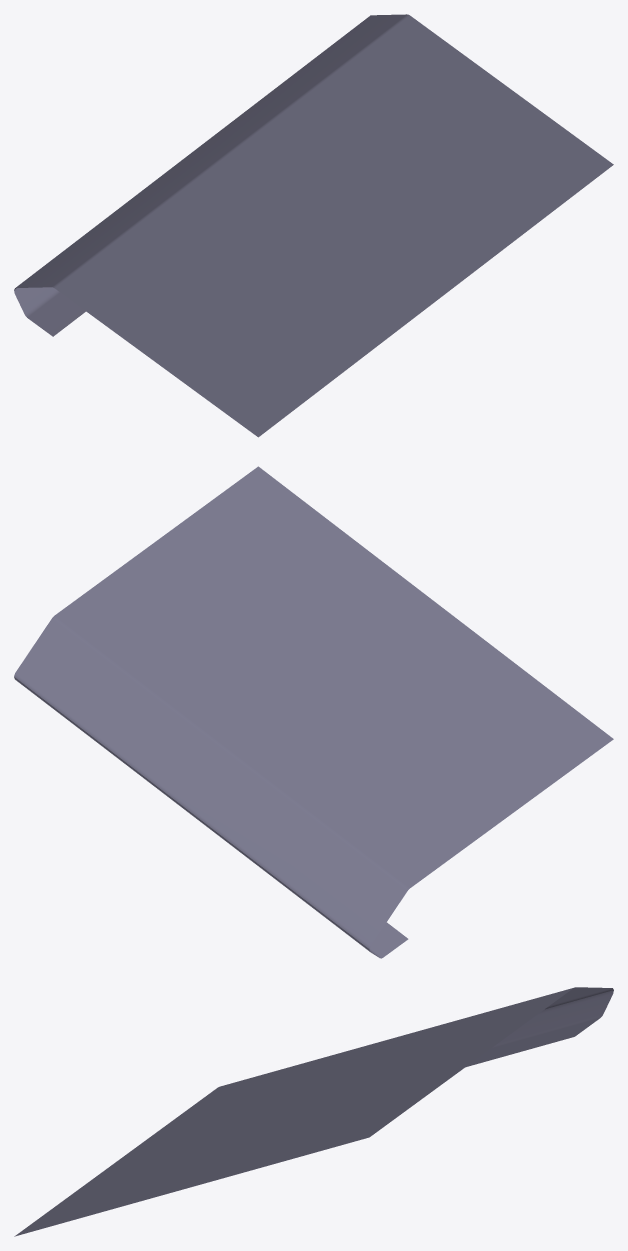
The model's file is SM_RoofML.fbx.
3 renders of one model, top to bottom at view 1: azimuth 30°, elevation 25°; view 2: azimuth 150°, elevation 25°; view 3: azimuth 330°, elevation 25°, orthographic.
Visible parts, largest first — view 1: modular_serious:pCube9; view 2: modular_serious:pCube9; view 3: modular_serious:pCube9.
Boxes of the visible parts, x1,y1,x2,y2 form: modular_serious:pCube9: (14, 14, 613, 437); modular_serious:pCube9: (14, 466, 613, 958); modular_serious:pCube9: (14, 987, 613, 1236).
Bounding box in the file's own units: 300 × 190 × 357.
